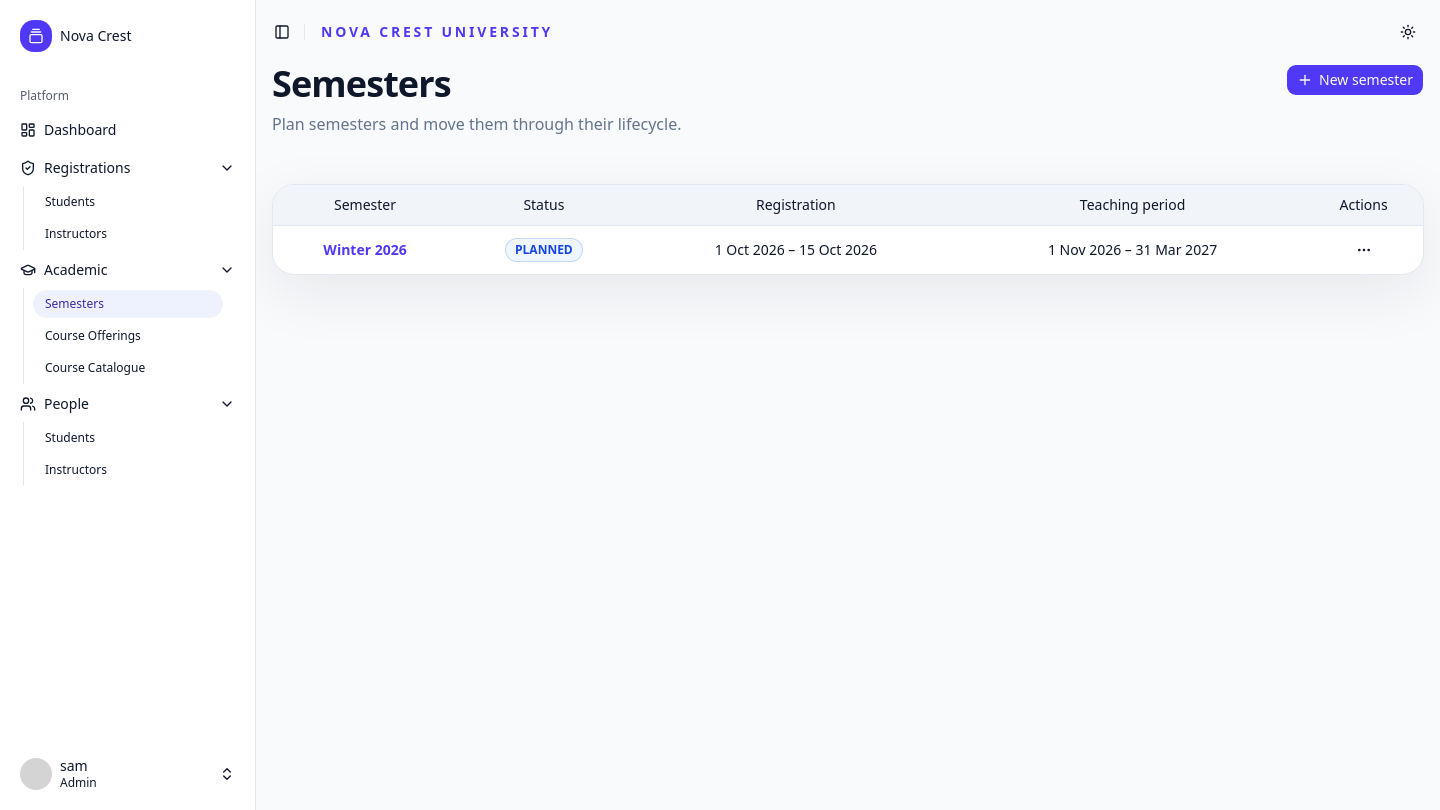
SemestersView › asks for confirmation before cancelling
The image size is (1440, 810).
Click the button without text in the row of "Winter 2026".
click(1364, 250)  # box [1348,234,1380,266]
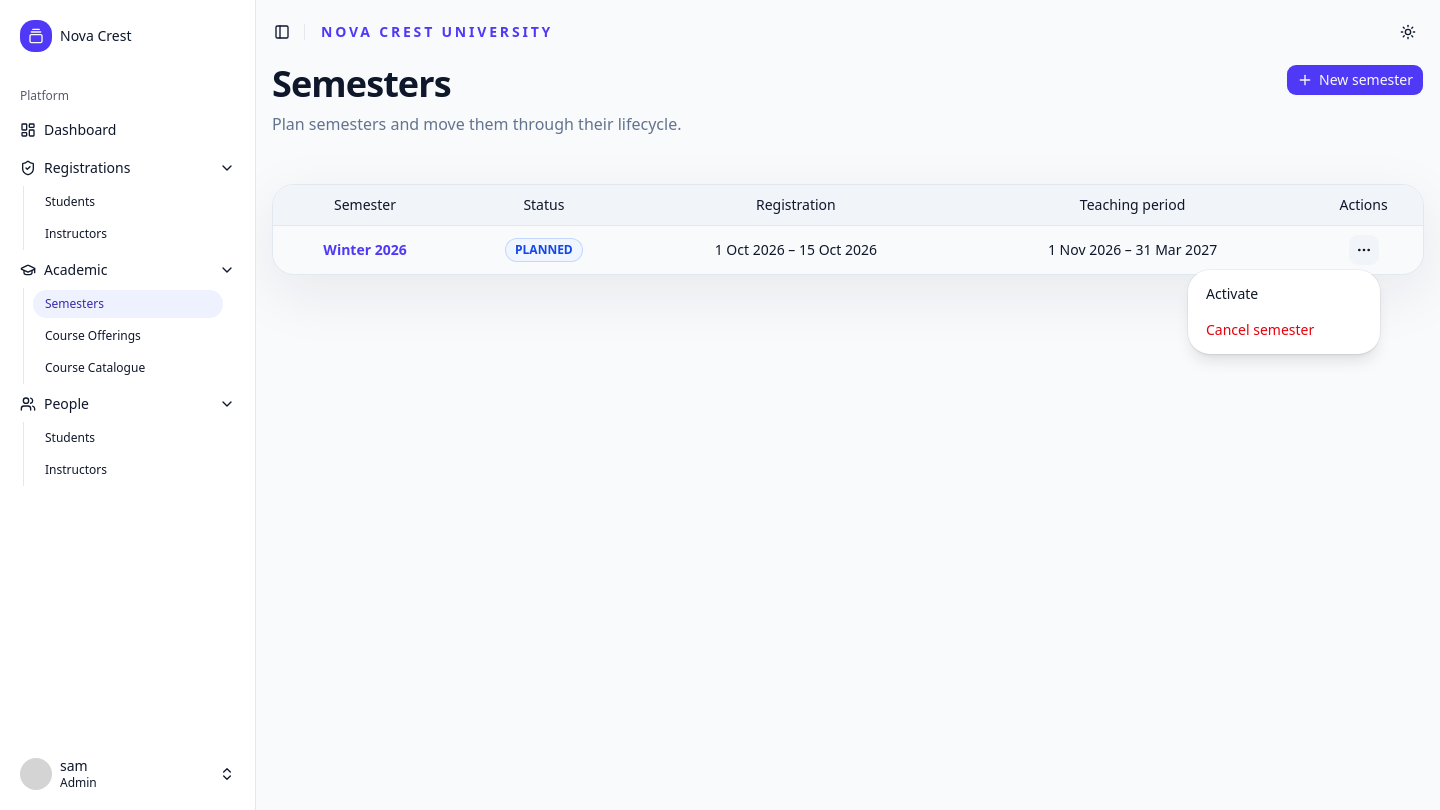
Click the menu item "Cancel semester".
click(1260, 330)  # box [1206,320,1314,339]
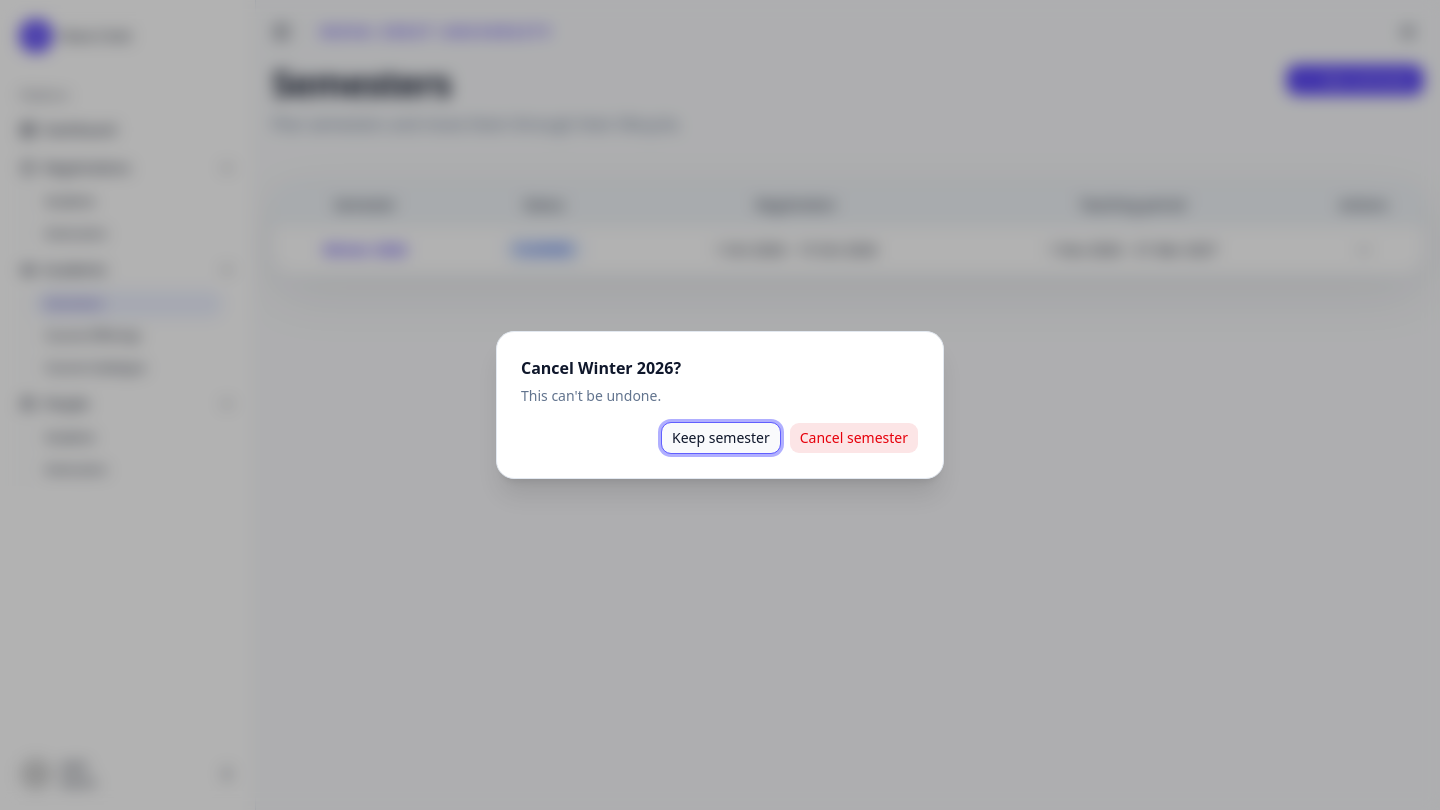
Expected: the dialog "Cancel Winter 2026?" is shown, [496,331,944,479]
Click the button "Keep semester".
click(721, 438)  # box [661,422,781,454]
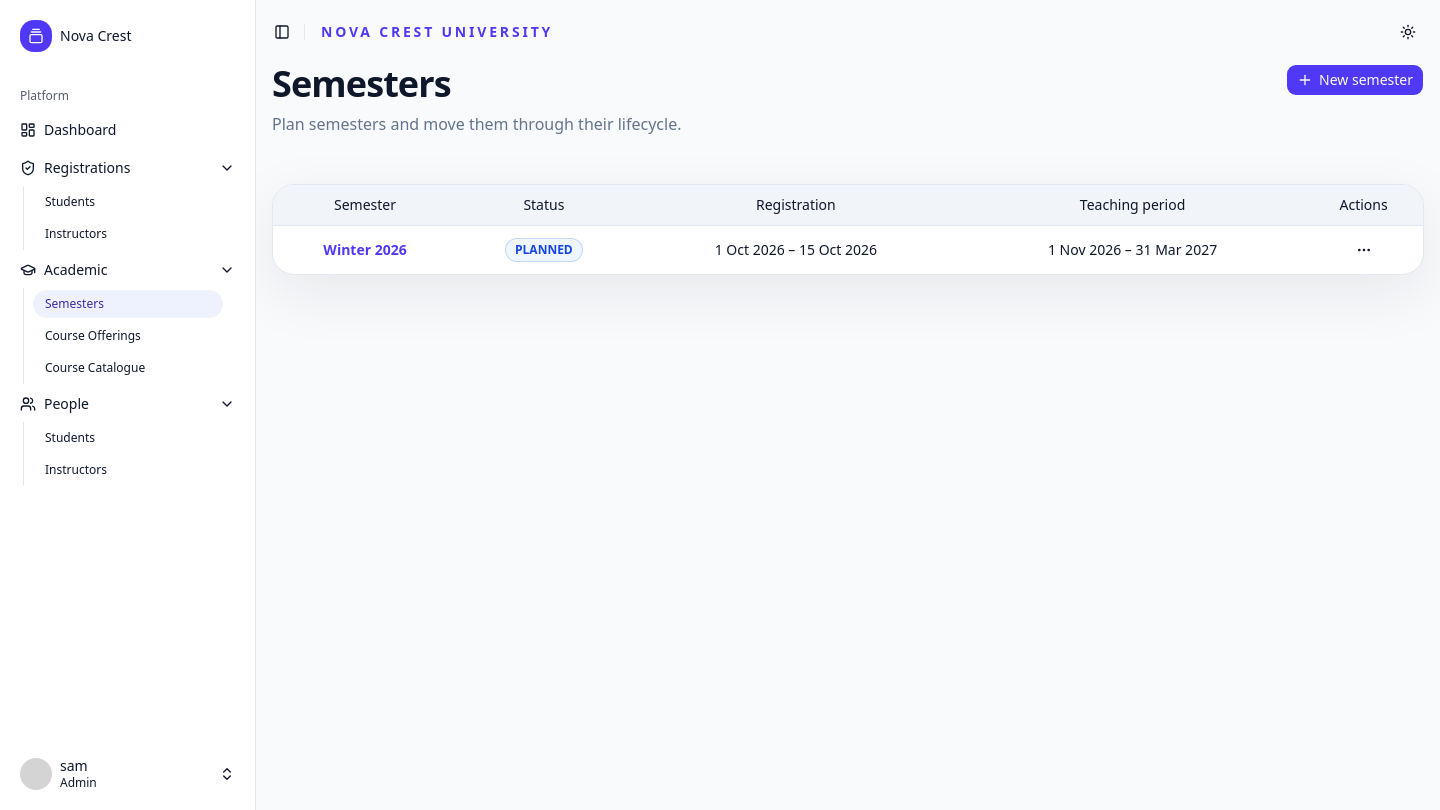
Expected: the dialog is gone
Click the button without text in the row of "Winter 2026".
click(1364, 250)  # box [1348,234,1380,266]
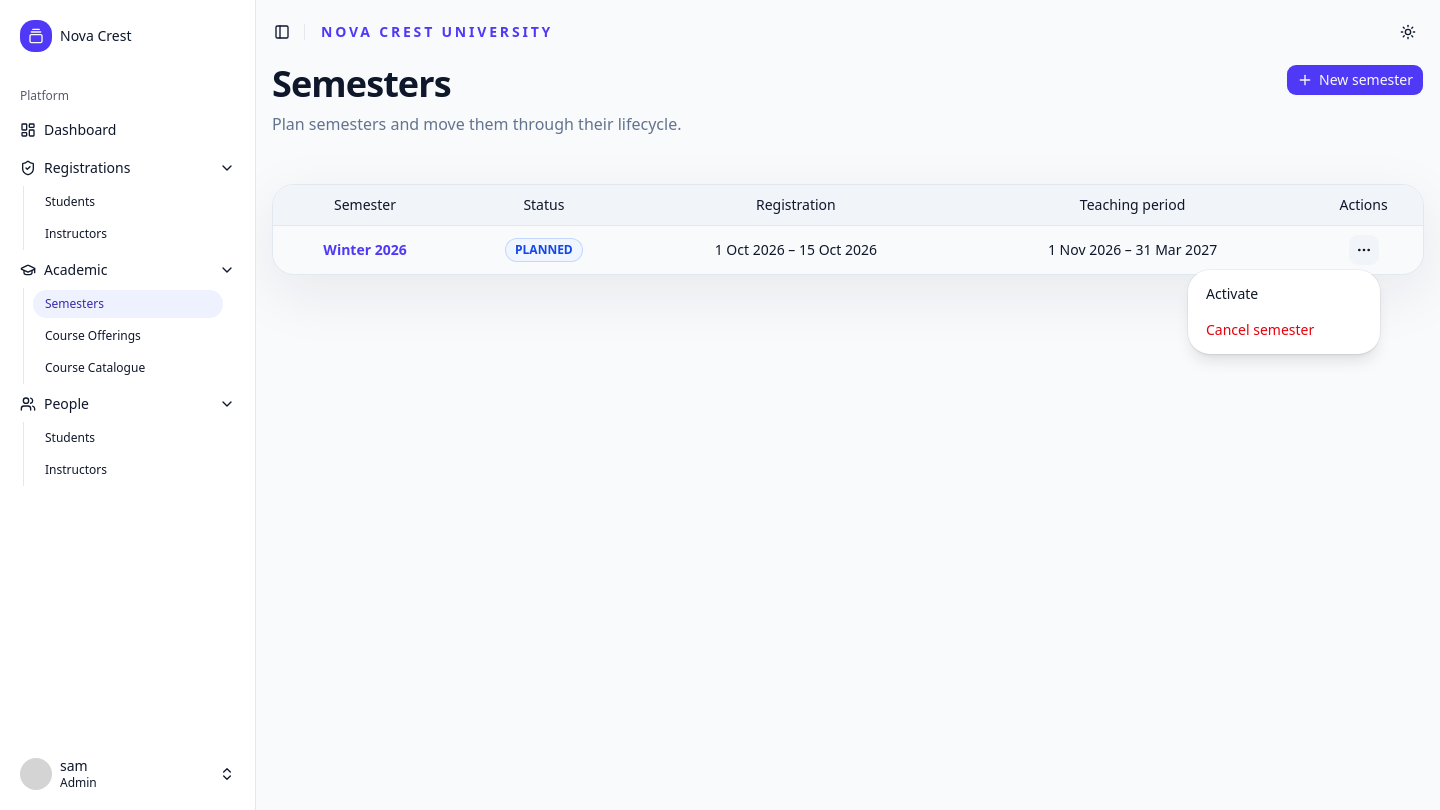
Click the menu item "Cancel semester".
click(1260, 330)  # box [1206,320,1314,339]
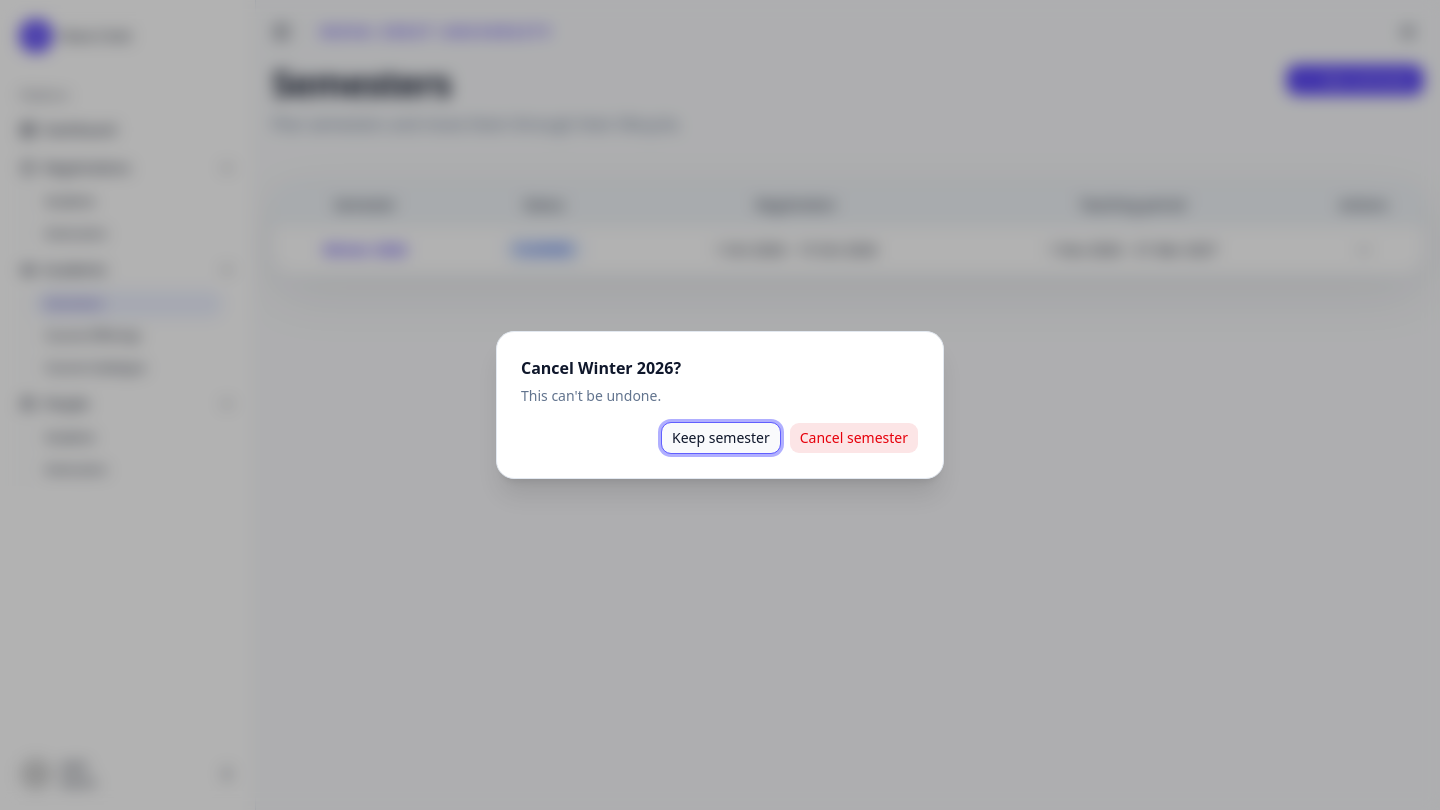
Click the button "Cancel semester".
click(854, 438)  # box [789,422,919,454]
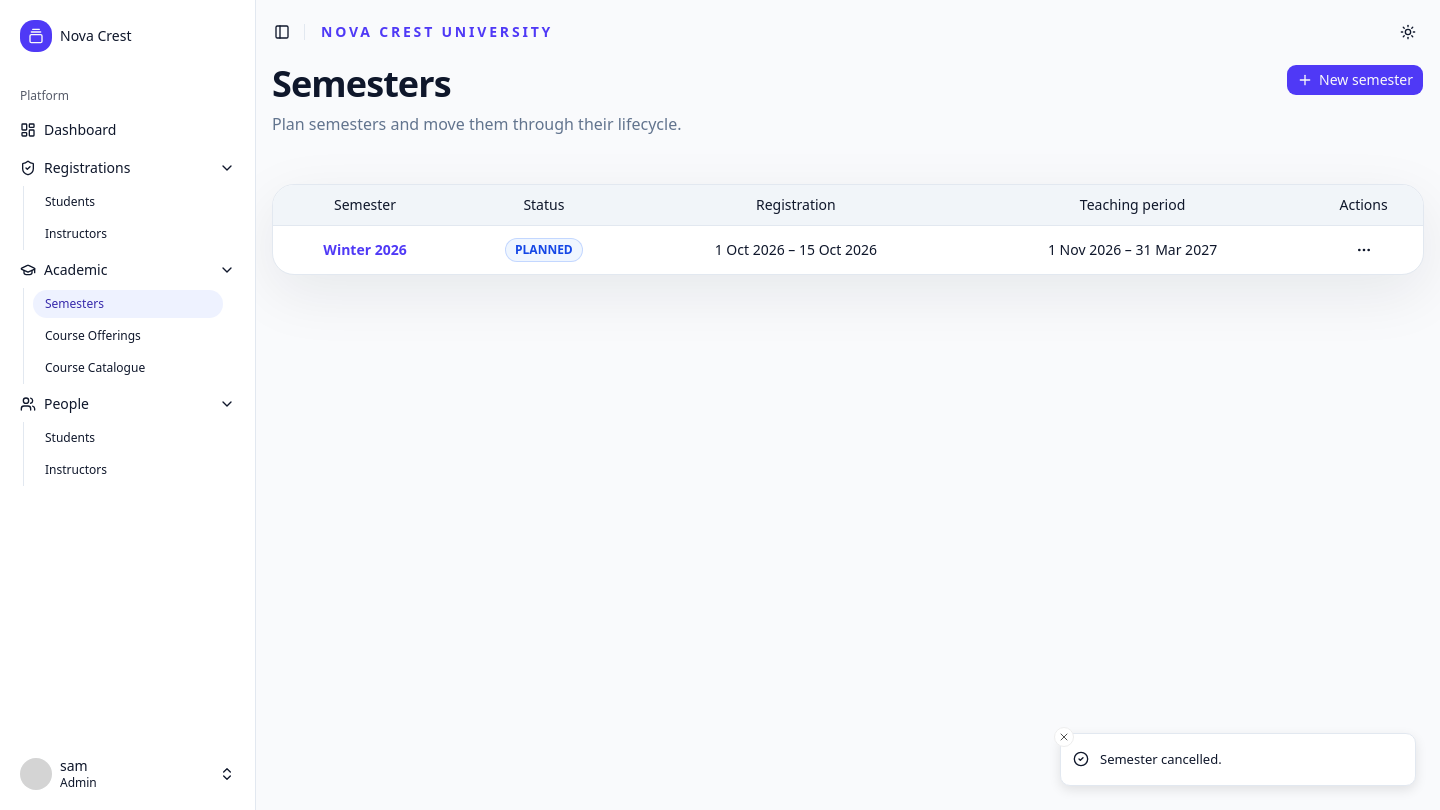
Expected: the text "Semester cancelled." is shown, [1100,750,1222,769]
